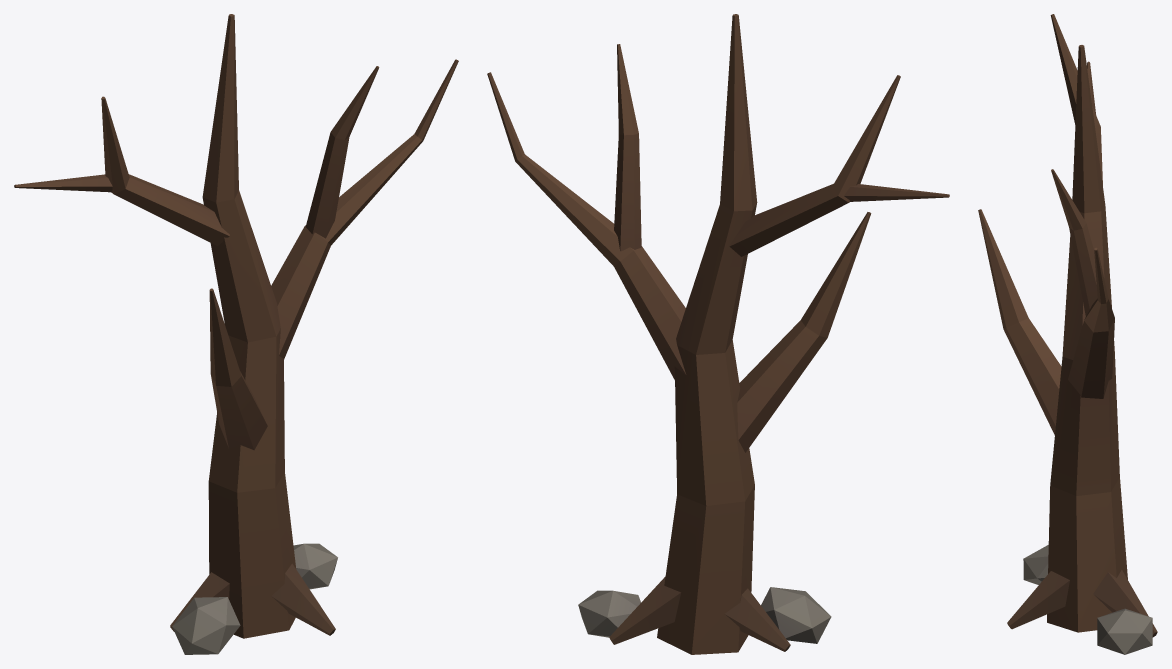
File: AV_DeadTree.glb
3 views of the same model, side by side, from view 1: azimuth 30°, elevation 25°; view 2: azimuth 150°, elevation 25°; view 3: azimuth 270°, elevation 25° (orthographic). The views are drawn at different scales.
Parts seen in each view (by area): view 1: AV_DeadTree__Body; view 2: AV_DeadTree__Body; view 3: AV_DeadTree__Body.
Part boxes in pixels (bbox=[...]): AV_DeadTree__Body: bbox=[14, 14, 458, 654]; AV_DeadTree__Body: bbox=[487, 14, 949, 654]; AV_DeadTree__Body: bbox=[978, 14, 1157, 654].
Size of the model in its own units: 13.05 by 17.15 by 4.95.
